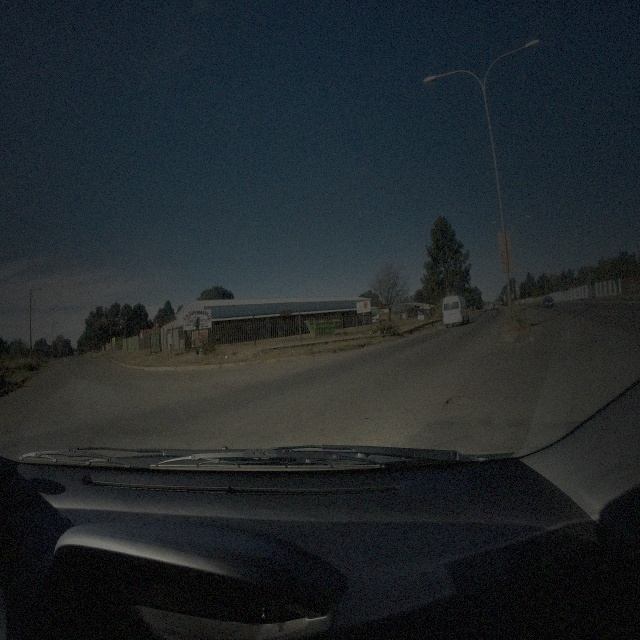pothole: (445, 395, 473, 408)
